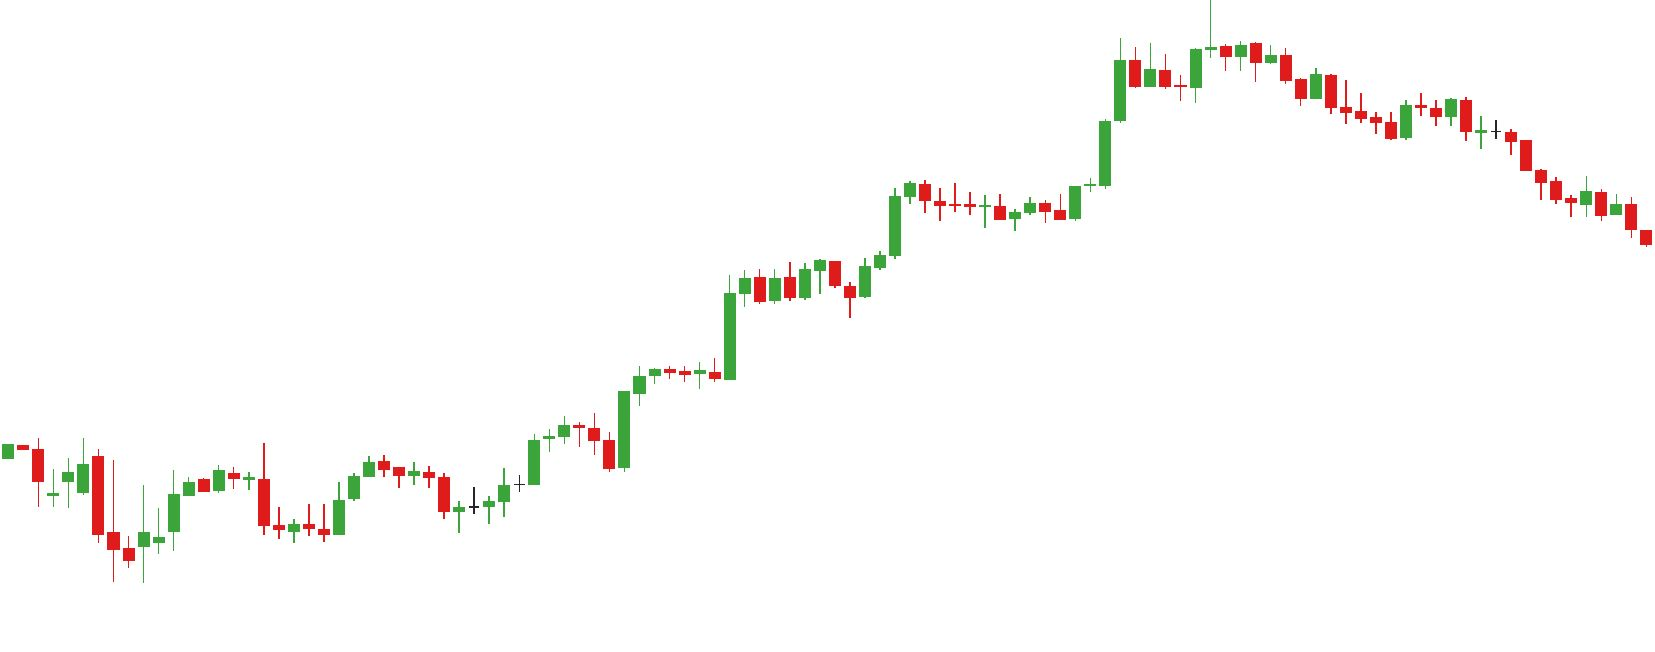sell: (1112, 9, 1221, 80)
